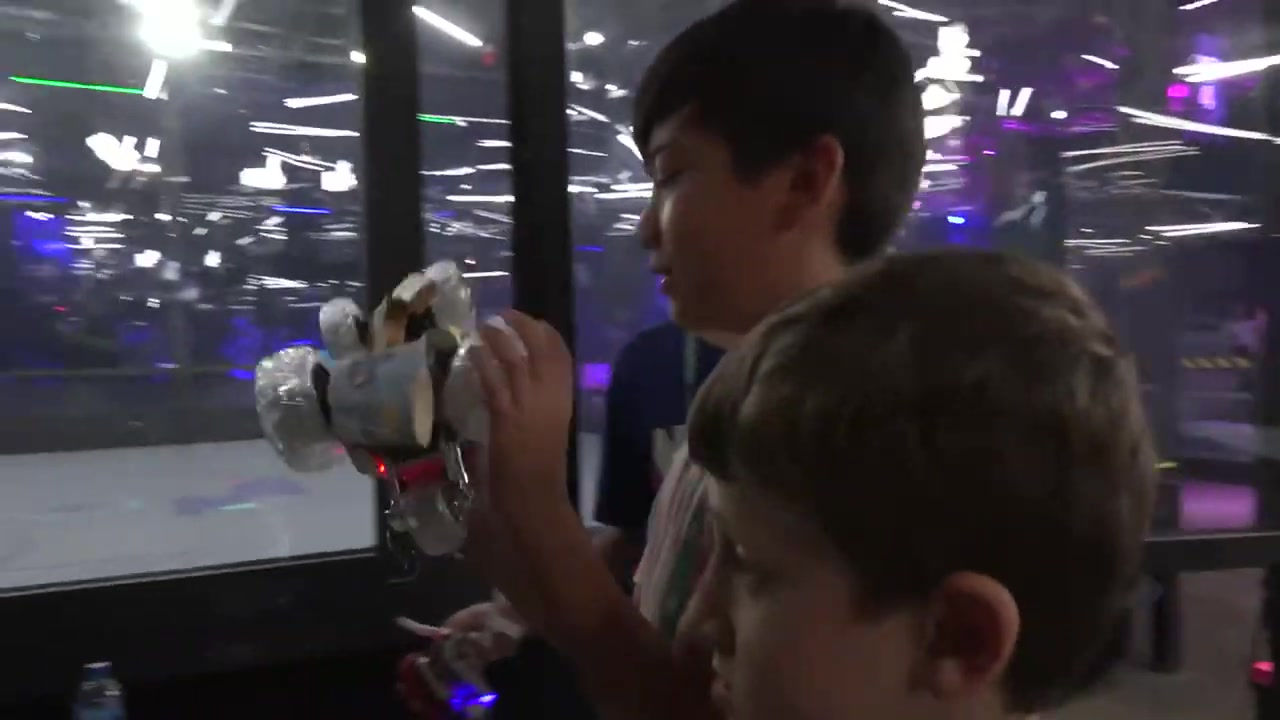combatbot: (249, 266, 496, 557)
